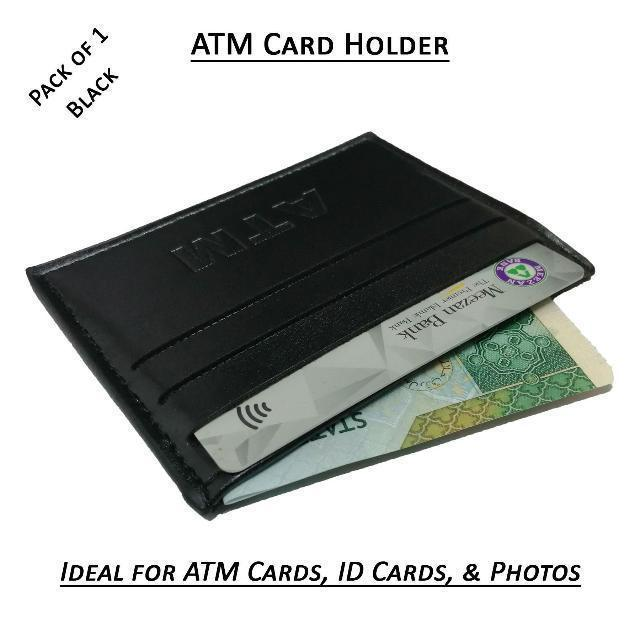wallet: (22, 128, 620, 522)
